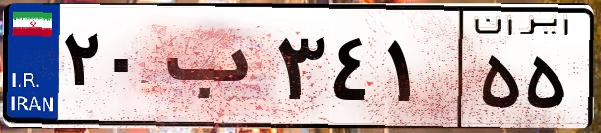0: (110, 28, 158, 98)
1: (385, 28, 445, 110)
2: (57, 26, 110, 100)
3: (270, 28, 330, 110)
4: (330, 28, 385, 110)
5: (475, 38, 525, 113), (525, 38, 570, 115)
ب: (158, 20, 270, 120)
